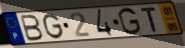2: (69, 11, 91, 38)
4: (95, 8, 115, 38)
B: (20, 14, 46, 43)
G: (117, 7, 143, 36), (42, 12, 66, 41)
T: (139, 6, 159, 33)
